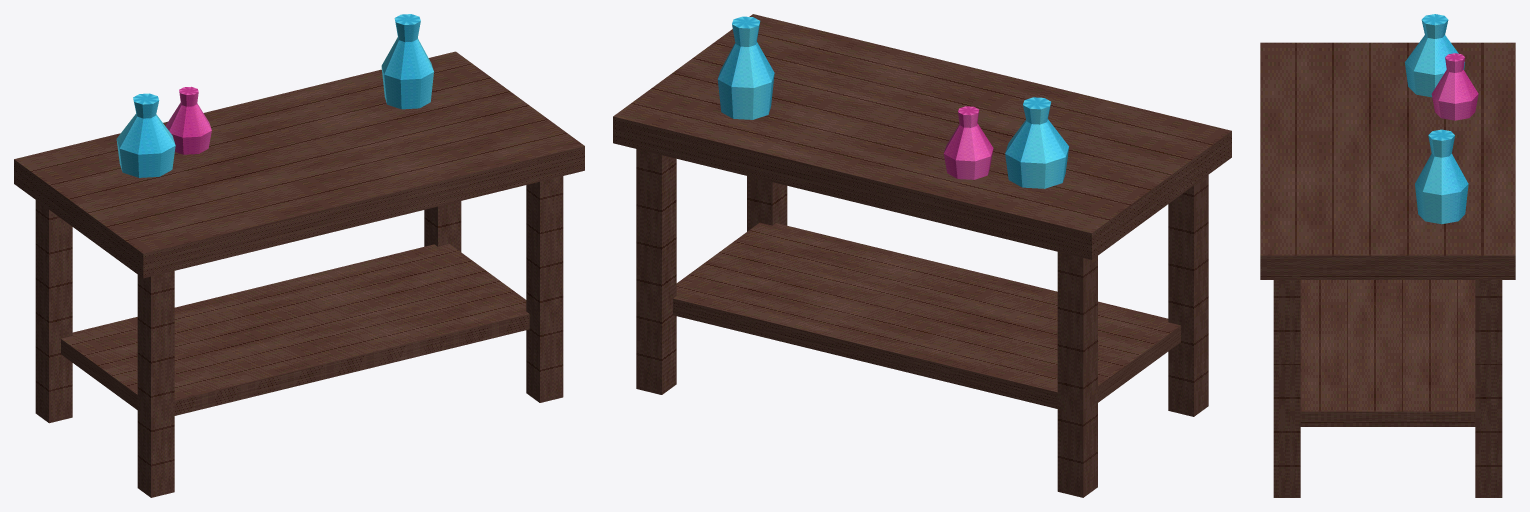
File: mesa_de_alquimia_arcana.glb
3 views of the same model, side by side, from view 1: azimuth 30°, elevation 25°; view 2: azimuth 150°, elevation 25°; view 3: azimuth 270°, elevation 25° (orthographic). The views are drawn at different scales.
Visible parts, largest first — view 1: mesa_de_alquimia_arcana; view 2: mesa_de_alquimia_arcana; view 3: mesa_de_alquimia_arcana.
Boxes of the visible parts, box(x1,y1,x2,y2) form: mesa_de_alquimia_arcana: box(14, 14, 584, 497); mesa_de_alquimia_arcana: box(613, 14, 1231, 497); mesa_de_alquimia_arcana: box(1260, 14, 1515, 497).
Bounding box in the file's own units: 1.5 × 1.08 × 0.76.
1 material, 1 textured.
